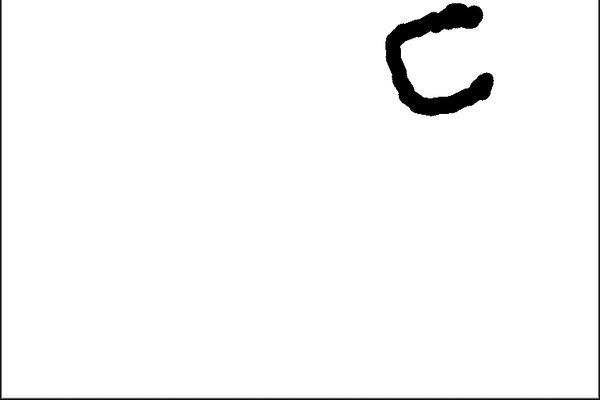C: (380, 2, 497, 118)
